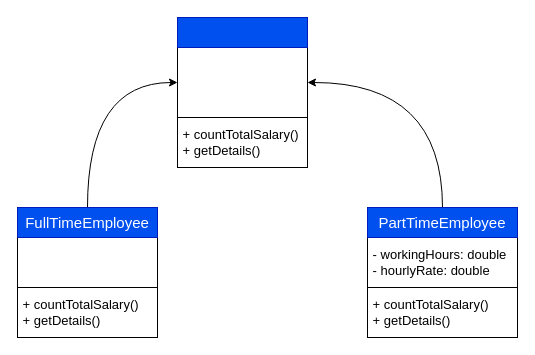
Image size: 535x355. Some labels were removed from this diagram. The centre of each missing label's shape, as x and y in pixels:
"- bonus: double - penalty: double" goes at pixel 87 262.
"- id: String - name: String - birthday: String" goes at pixel 242 82.
"Employee" goes at pixel 242 32.
